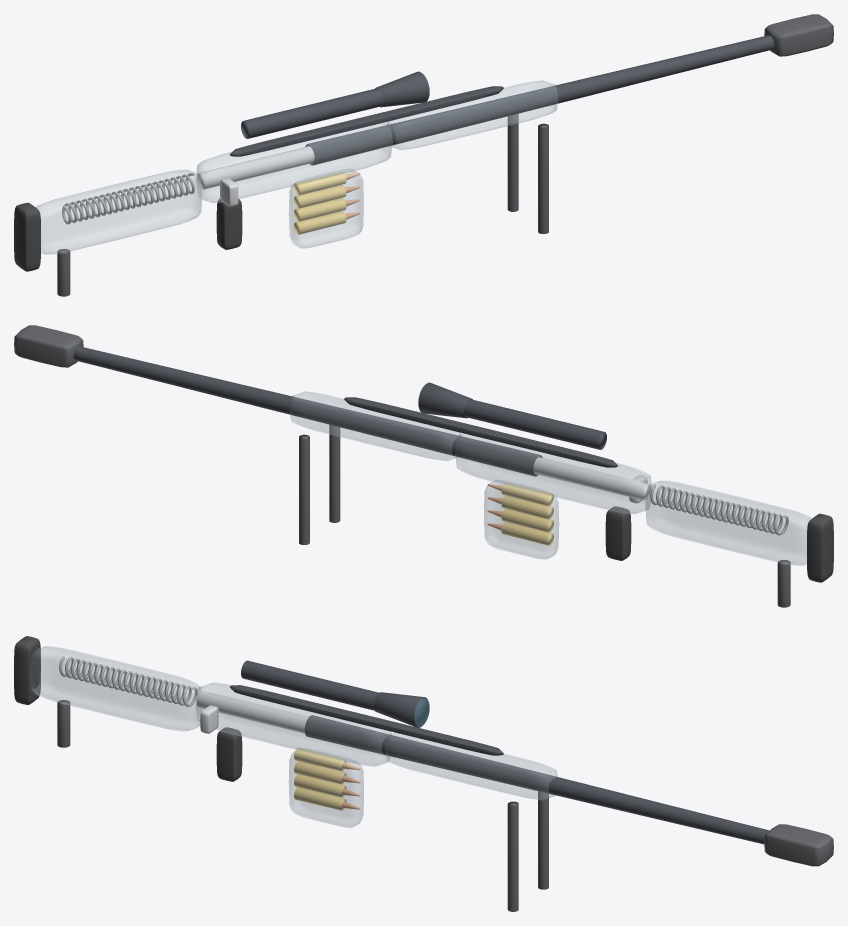
Rendered from alligator-glass.glb.
3 renders of one model, top to bottom at view 1: azimuth 30°, elevation 25°; view 2: azimuth 150°, elevation 25°; view 3: azimuth 330°, elevation 25°, orthographic.
Parts seen in each view (by area): view 1: barrel_1200mm, stock_frame, receiver_housing, barrel_shroud, mag_145mm, top_rail_long, optic_body, recoil_damper_spring, muzzle_brake_body, heavy_bolt, buttpad_recoil, optic_obj (+8 smaller); view 2: barrel_1200mm, stock_frame, receiver_housing, barrel_shroud, mag_145mm, top_rail_long, optic_body, recoil_damper_spring, muzzle_brake_body, heavy_bolt, buttpad_recoil, optic_obj (+8 smaller); view 3: stock_frame, barrel_1200mm, receiver_housing, barrel_shroud, mag_145mm, top_rail_long, optic_body, recoil_damper_spring, muzzle_brake_body, heavy_bolt, buttpad_recoil, optic_obj (+8 smaller).
Boxes of the visible parts, x1=… form: barrel_1200mm: x1=305, y1=35, x2=774, y2=165; stock_frame: x1=35, y1=169, x2=202, y2=254; receiver_housing: x1=196, y1=122, x2=392, y2=203; barrel_shroud: x1=386, y1=80, x2=558, y2=150; mag_145mm: x1=288, y1=169, x2=363, y2=248; top_rail_long: x1=230, y1=86, x2=503, y2=156; optic_body: x1=241, y1=88, x2=383, y2=138; recoil_damper_spring: x1=62, y1=173, x2=194, y2=224; muzzle_brake_body: x1=764, y1=14, x2=833, y2=56; heavy_bolt: x1=197, y1=146, x2=314, y2=189; buttpad_recoil: x1=14, y1=202, x2=40, y2=271; optic_obj: x1=375, y1=71, x2=429, y2=107; barrel_1200mm: x1=73, y1=346, x2=542, y2=476; stock_frame: x1=645, y1=480, x2=812, y2=565; receiver_housing: x1=455, y1=433, x2=651, y2=514; barrel_shroud: x1=289, y1=391, x2=461, y2=461; mag_145mm: x1=484, y1=480, x2=559, y2=559; top_rail_long: x1=344, y1=397, x2=617, y2=467; optic_body: x1=464, y1=399, x2=606, y2=449; recoil_damper_spring: x1=650, y1=484, x2=788, y2=535; muzzle_brake_body: x1=14, y1=325, x2=83, y2=367; heavy_bolt: x1=533, y1=457, x2=650, y2=500; buttpad_recoil: x1=807, y1=513, x2=833, y2=582; optic_obj: x1=418, y1=382, x2=472, y2=418; stock_frame: x1=30, y1=646, x2=201, y2=731; barrel_1200mm: x1=304, y1=715, x2=769, y2=844; receiver_housing: x1=195, y1=682, x2=391, y2=766; barrel_shroud: x1=385, y1=732, x2=557, y2=800; mag_145mm: x1=288, y1=748, x2=363, y2=827; top_rail_long: x1=230, y1=685, x2=503, y2=755; optic_body: x1=241, y1=660, x2=378, y2=710; recoil_damper_spring: x1=59, y1=656, x2=197, y2=706; muzzle_brake_body: x1=764, y1=824, x2=833, y2=866; heavy_bolt: x1=197, y1=691, x2=308, y2=733; buttpad_recoil: x1=14, y1=636, x2=40, y2=704; optic_obj: x1=374, y1=692, x2=428, y2=727.
Size of the model in its own units: 2 by 0.412 by 0.1536.
